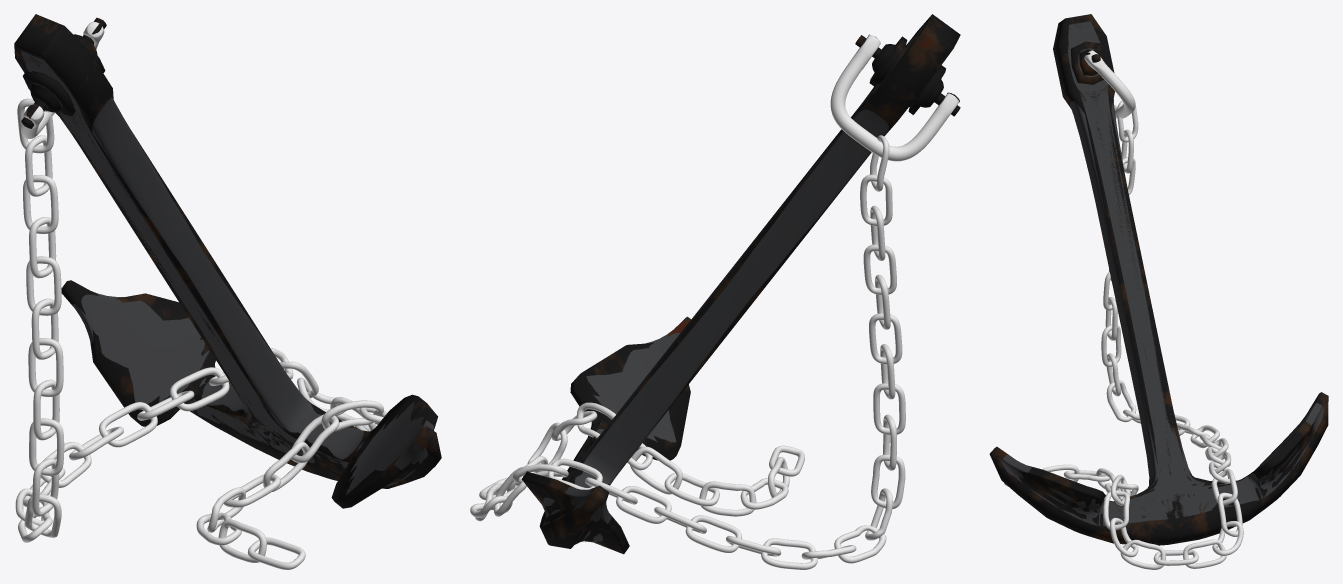
Rendered from Ancre.fbx.
The picture shows the model from 3 angles, left to right: view 1: azimuth 30°, elevation 25°; view 2: azimuth 150°, elevation 25°; view 3: azimuth 270°, elevation 25°; orthographic projection. The views are drawn at different scales.
Visible parts, largest first — view 1: Cube, Cylinder.001, Cube.001, Cylinder; view 2: Cylinder.001, Cube, Cube.001, Cylinder; view 3: Cube, Cube.001, Cylinder.001, Cylinder.
Part boxes in pixels (left/top/right/bottom): Cube: left=20, top=50, right=433, bottom=494; Cylinder.001: left=15, top=98, right=387, bottom=569; Cube.001: left=14, top=14, right=441, bottom=508; Cylinder: left=21, top=21, right=104, bottom=139; Cylinder.001: left=470, top=135, right=905, bottom=569; Cube: left=536, top=23, right=938, bottom=545; Cube.001: left=521, top=14, right=960, bottom=554; Cylinder: left=830, top=35, right=959, bottom=161; Cube: left=998, top=21, right=1324, bottom=526; Cube.001: left=989, top=14, right=1328, bottom=545; Cylinder.001: left=1004, top=101, right=1243, bottom=569; Cylinder: left=1084, top=50, right=1135, bottom=118.
Bounding box in the file's own units: 717 × 887 × 659.
3 materials, 1 textured.
